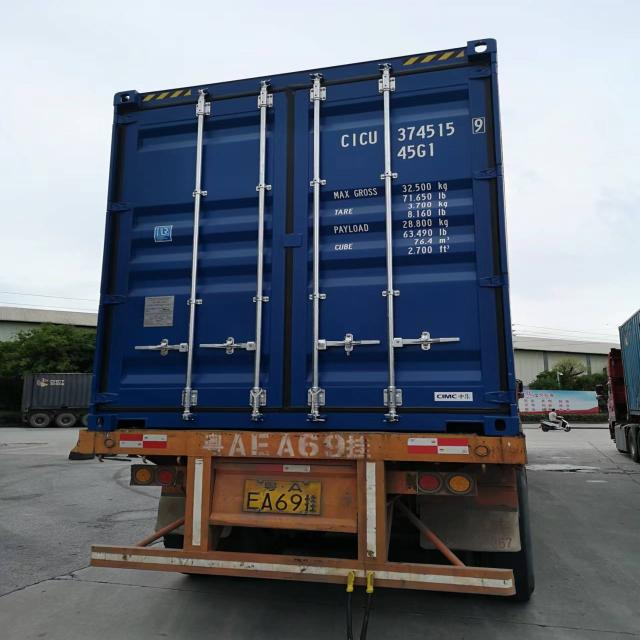seal: (343, 332, 354, 360)
